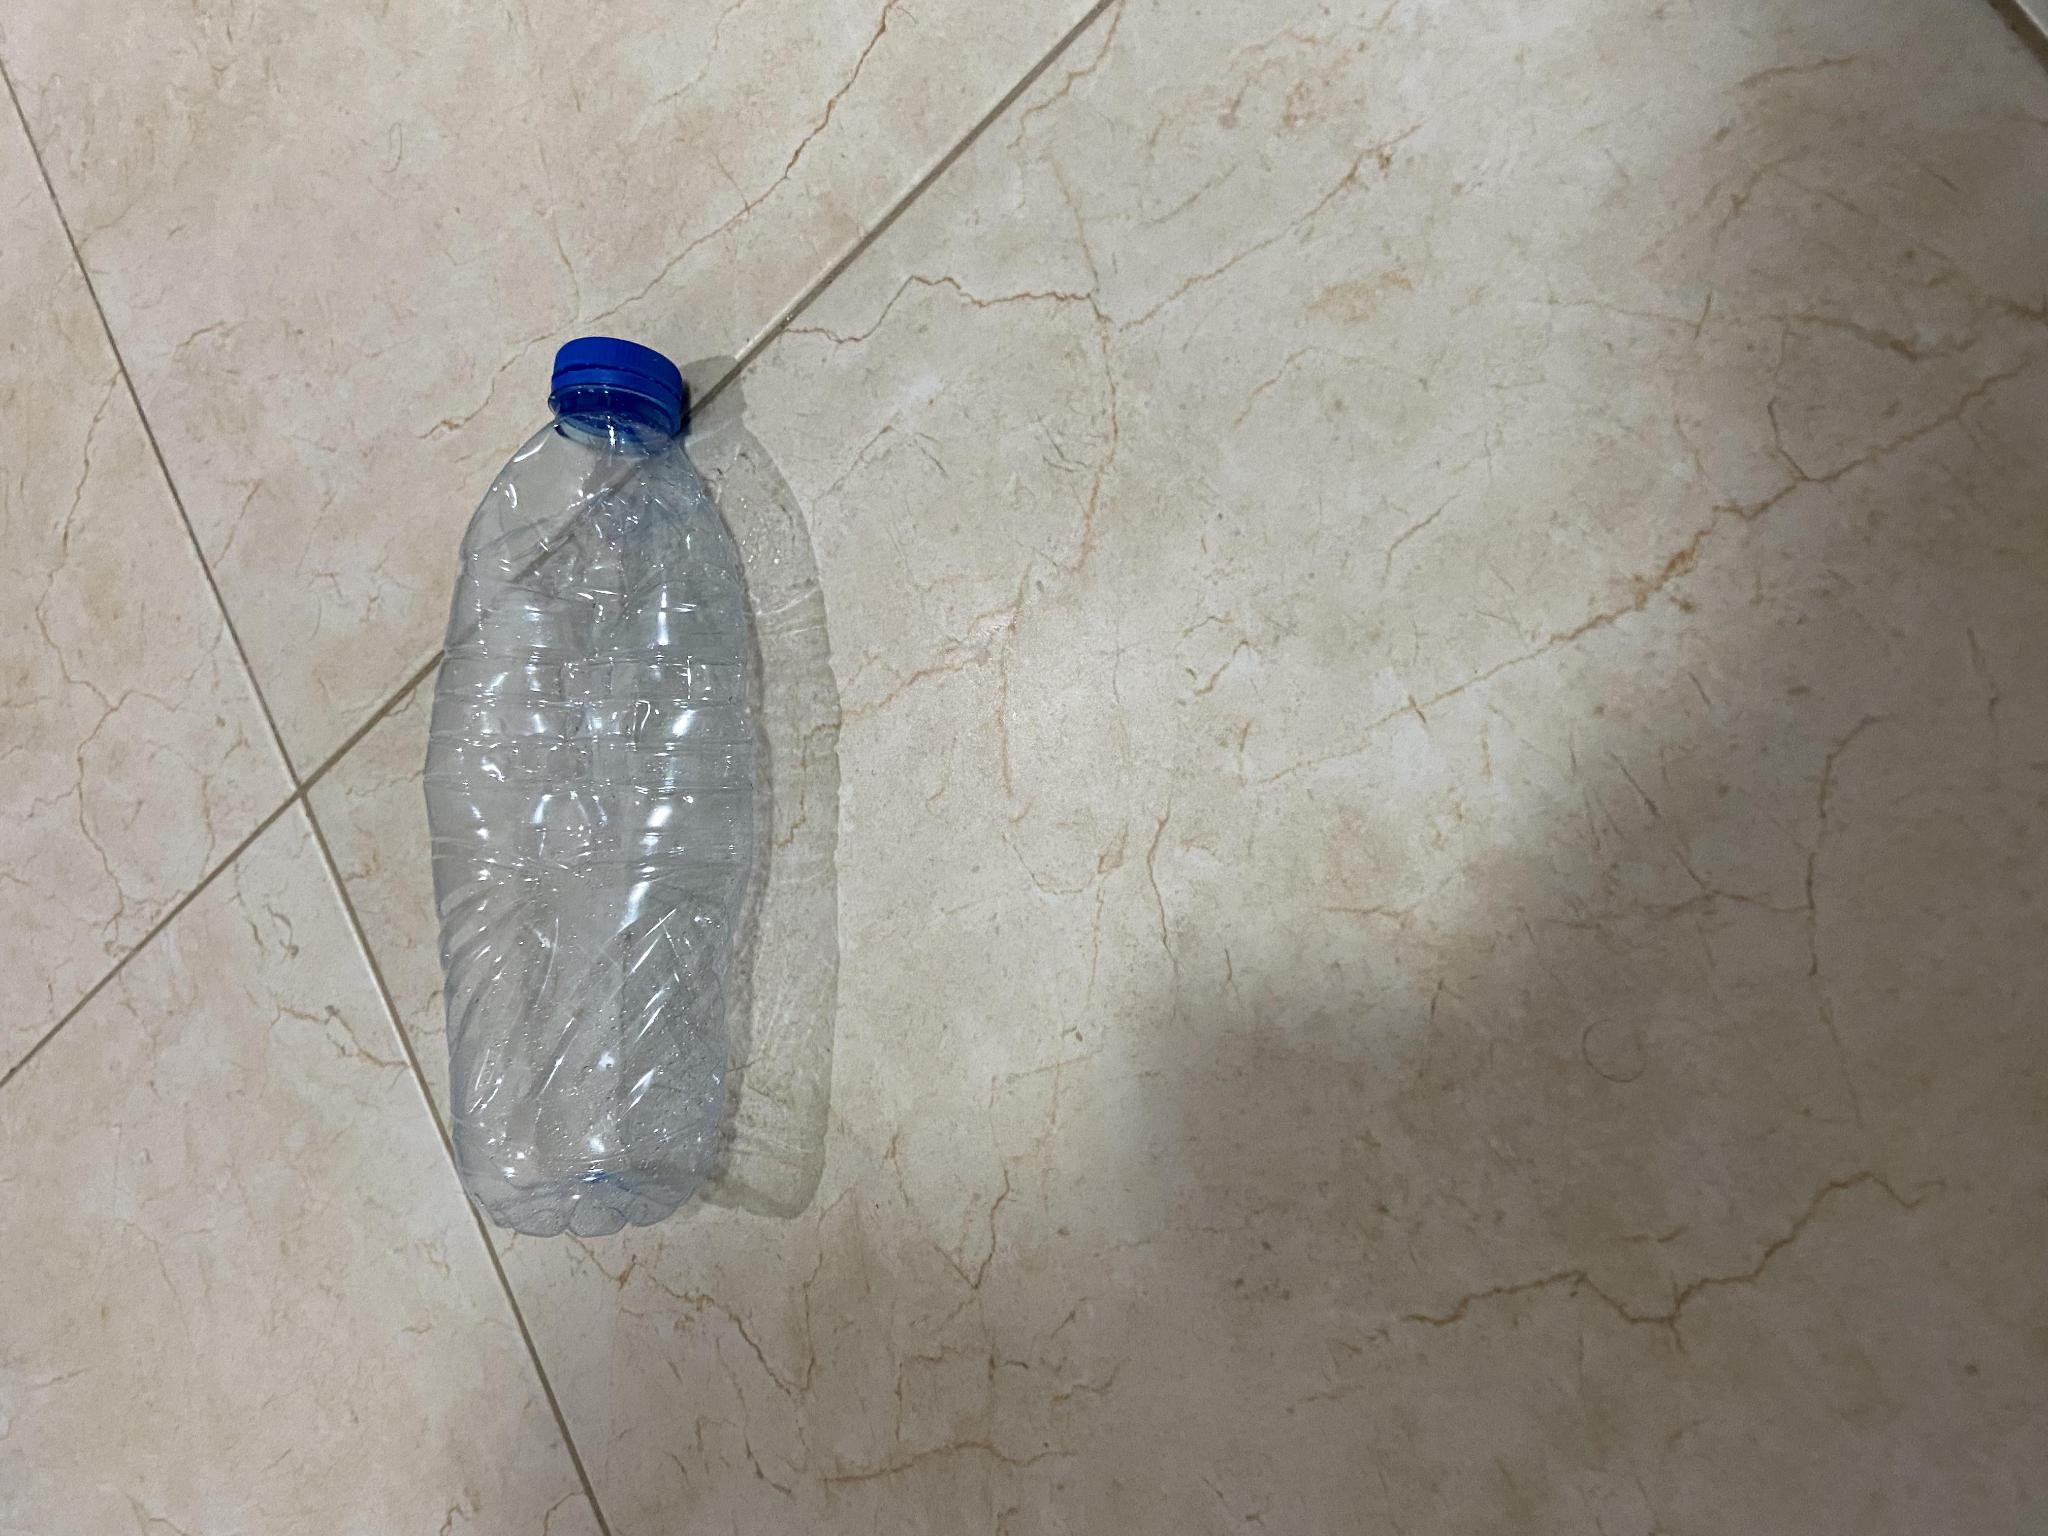bottle: (414, 320, 778, 1230)
